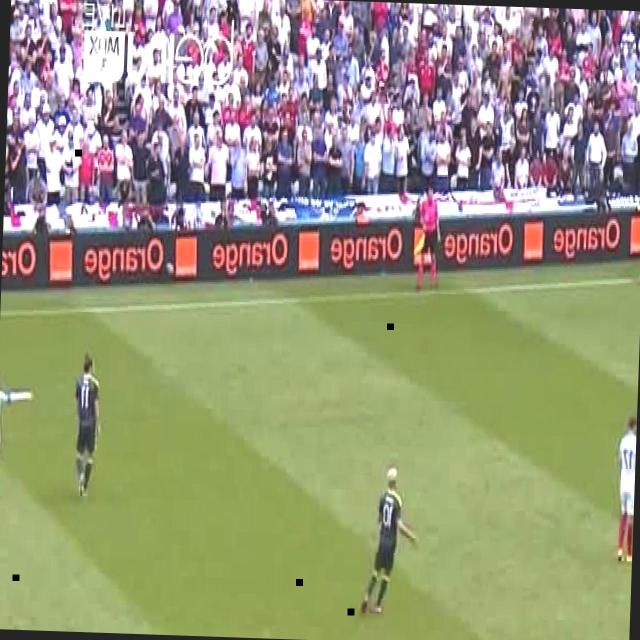player-white: (360, 465, 420, 619), (72, 354, 106, 498), (0, 370, 34, 511), (615, 411, 637, 563), (416, 186, 442, 292)
